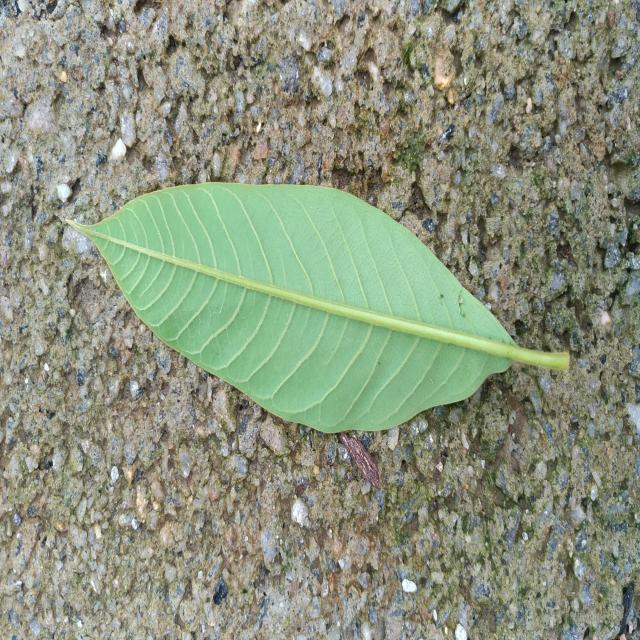coffee: (71, 184, 515, 433)
